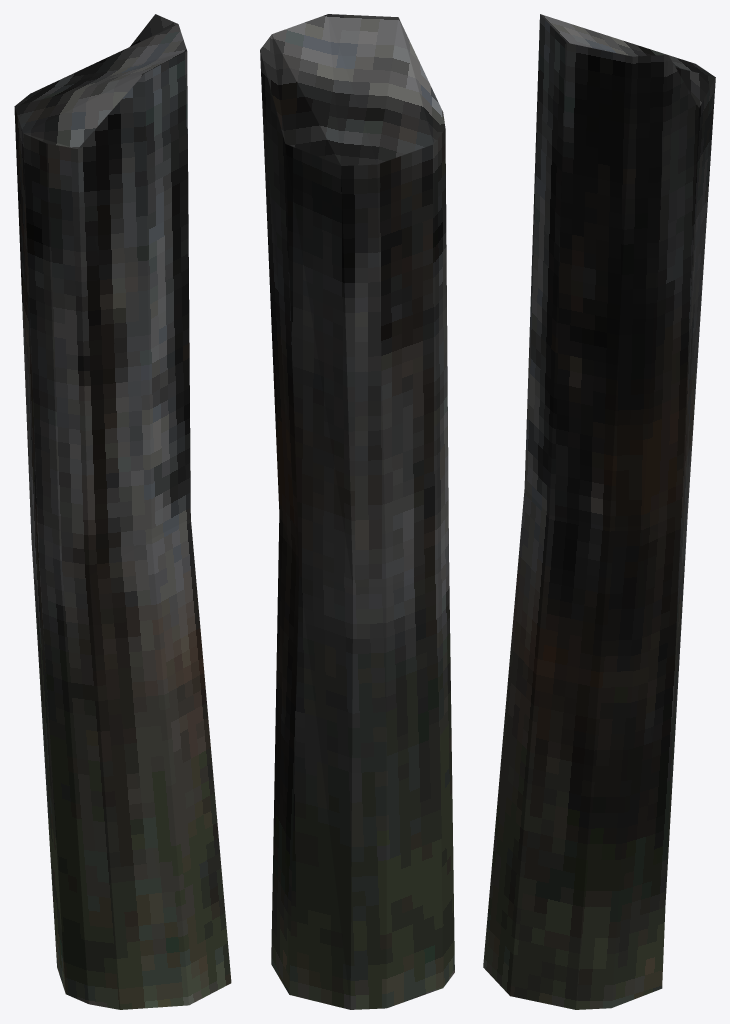
File: big_fence_Leg_02.glb
3 views of the same model, side by side, from view 1: azimuth 30°, elevation 25°; view 2: azimuth 150°, elevation 25°; view 3: azimuth 270°, elevation 25° (orthographic). The views are drawn at different scales.
Parts seen in each view (by area): view 1: big_fence_Leg_02; view 2: big_fence_Leg_02; view 3: big_fence_Leg_02.
Boxes of the visible parts, x1=… form: big_fence_Leg_02: x1=14, y1=14, x2=231, y2=1009; big_fence_Leg_02: x1=260, y1=14, x2=454, y2=1009; big_fence_Leg_02: x1=483, y1=14, x2=715, y2=1009.
Bounding box in the file's own units: 0.7537 × 3.83 × 0.8494.
Materials: 1 (1 with a texture image).
